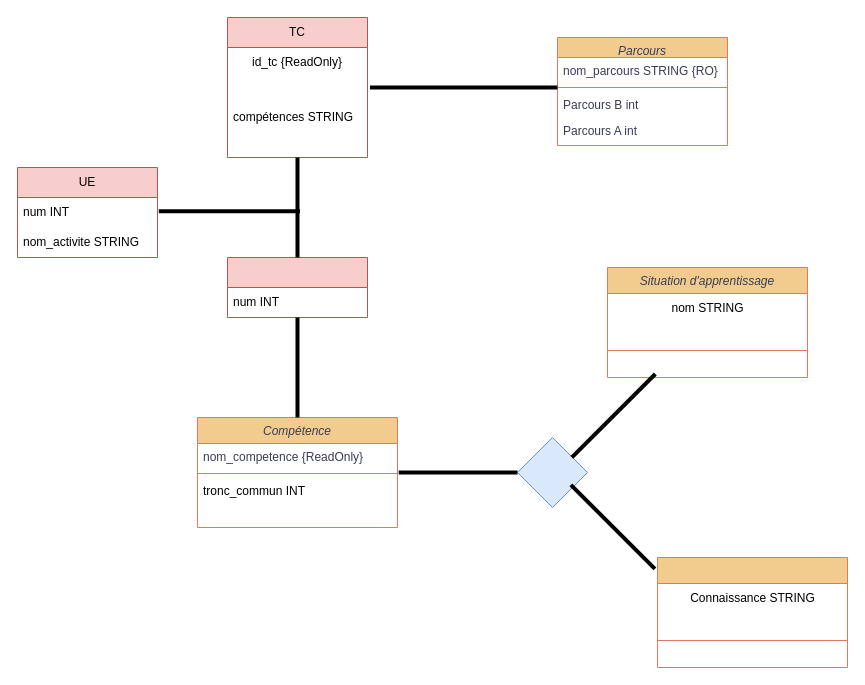
Image size: 865x685. Some labels were removed from this diagram. The box of each missing label's shape, as (x1, y1, x2, y2) in pixels:
Ressources: (656, 556, 848, 668)
Semestre: (226, 256, 368, 318)
